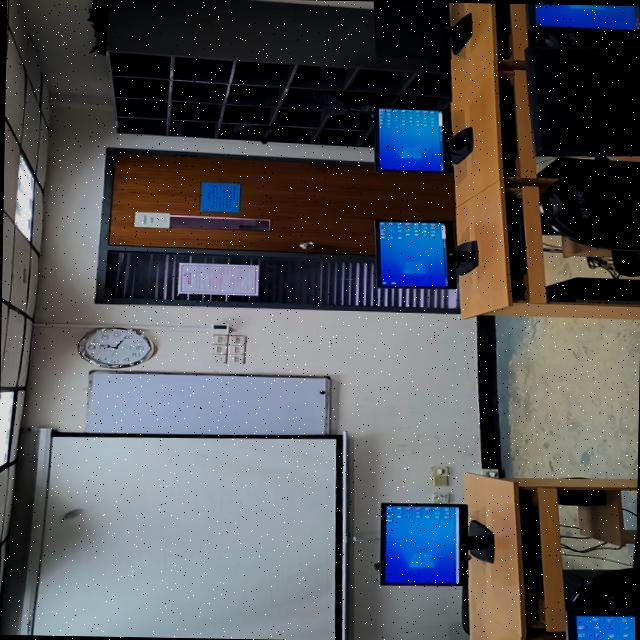Chair: (540, 172, 640, 274), (565, 532, 636, 608)
Cpu: (545, 276, 640, 304)
Light: (11, 156, 36, 240), (0, 386, 16, 474)
Monitor: (529, 43, 640, 157), (376, 502, 486, 586), (372, 218, 476, 292), (371, 106, 474, 176), (369, 1, 470, 56), (524, 3, 640, 28), (574, 608, 635, 640)
